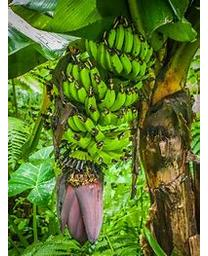banana: (60, 26, 156, 172)
